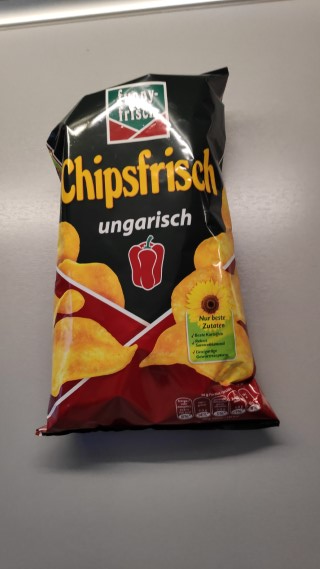chipsfrisch: (34, 64, 282, 437)
